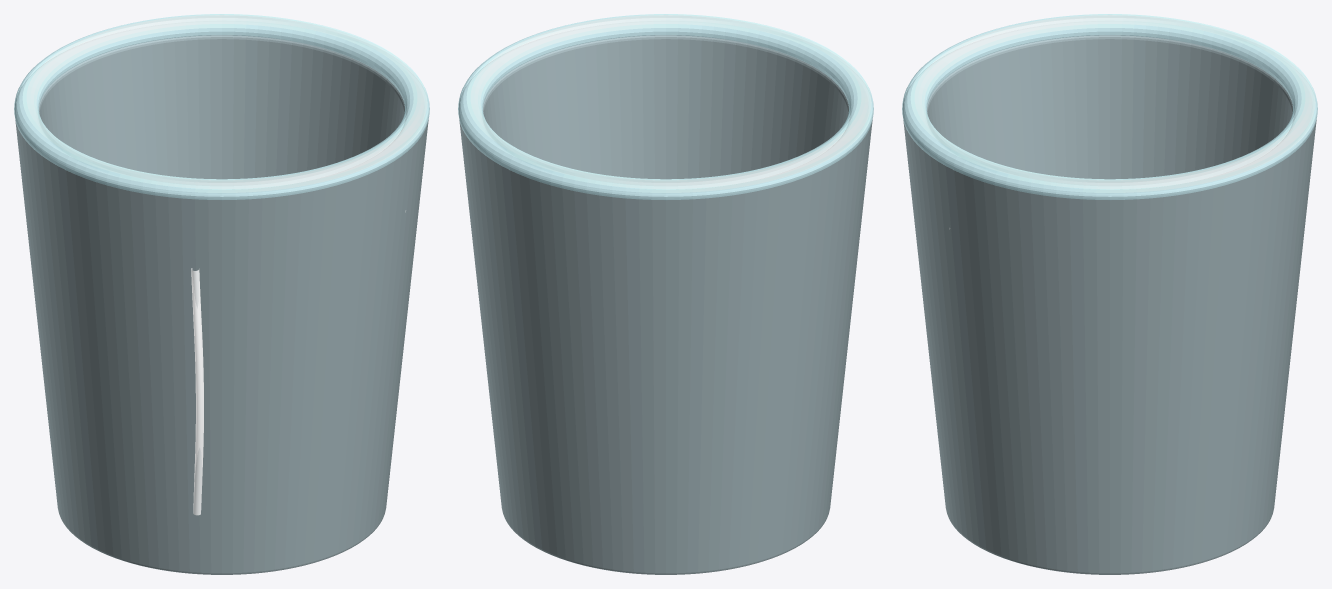
File: glass-tumbler.glb
The picture shows the model from 3 angles, left to right: view 1: azimuth 30°, elevation 25°; view 2: azimuth 150°, elevation 25°; view 3: azimuth 270°, elevation 25°; orthographic projection.
Parts seen in each view (by area): view 1: Havoc clear tumbler, Optical rim, Long glass highlight; view 2: Havoc clear tumbler, Optical rim; view 3: Havoc clear tumbler, Optical rim.
Part boxes in pixels (x1,y1,x2,y2): Havoc clear tumbler: (15,21,428,574); Optical rim: (14,14,429,200); Long glass highlight: (191,268,203,515); Havoc clear tumbler: (459,21,872,574); Optical rim: (458,14,873,200); Havoc clear tumbler: (903,21,1316,574); Optical rim: (902,14,1317,200).
Size of the model in its own units: 2.84 by 3.08 by 2.84.
